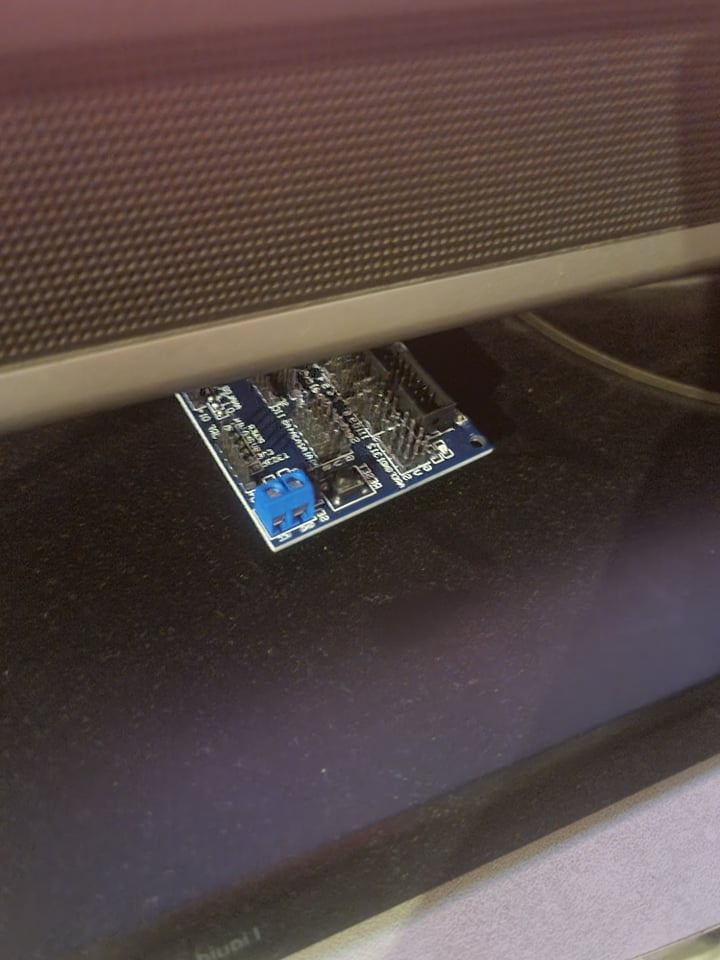5V EXPANSION: (171, 320, 492, 553)
